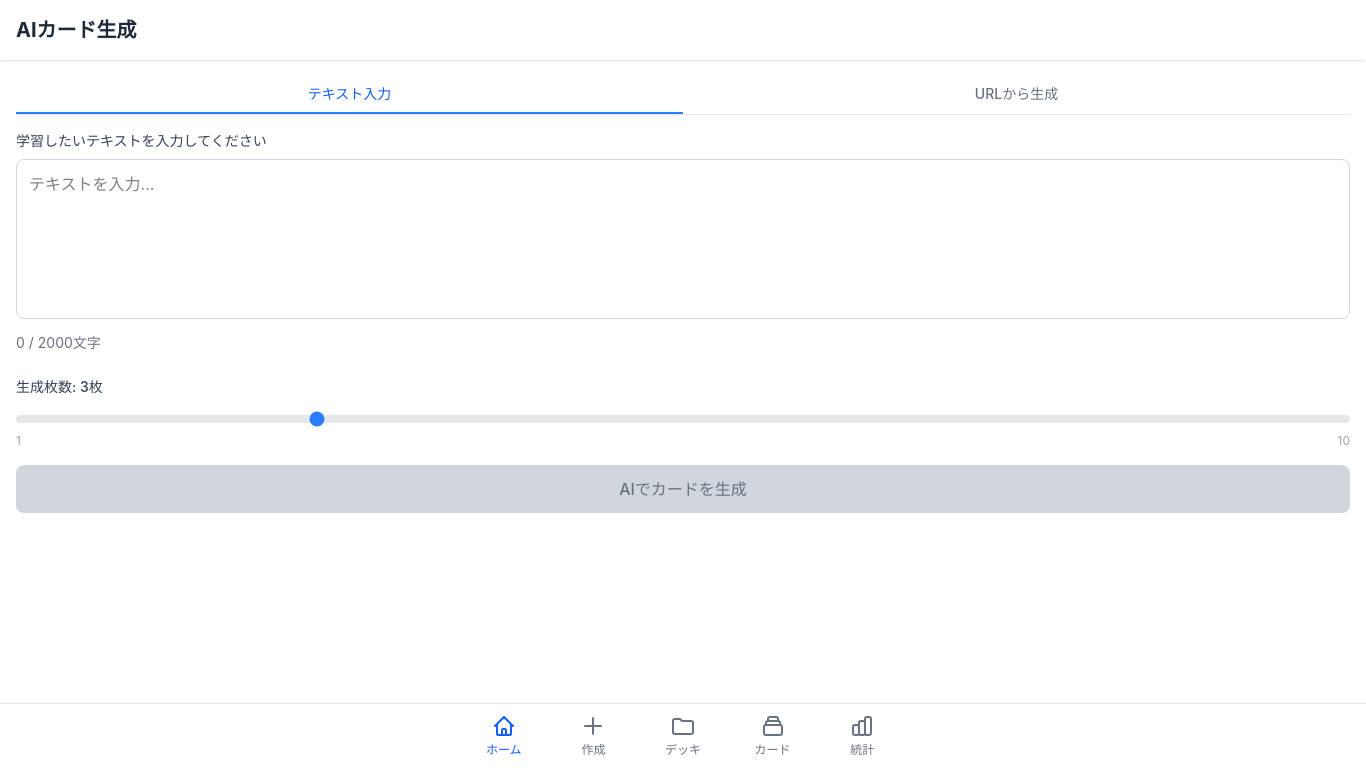
Test: GeneratePage › テストケース6: カードの選択/解除 › カードを選択・解除できる
In the text box with test id "input-text": (683, 239) [16,159,1350,319], type "テスト用のテキストです"
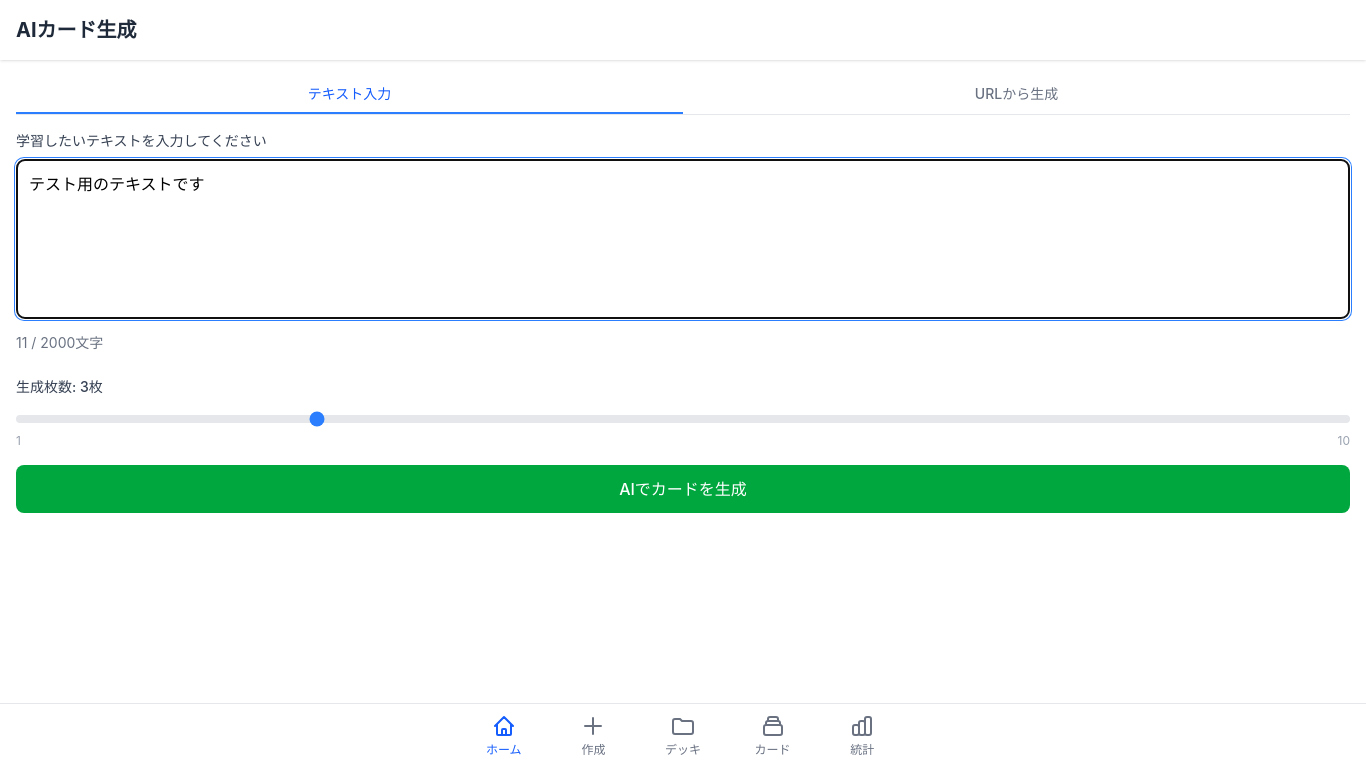
Click the button with test id "generate-button": (683, 489) [16,465,1350,513]
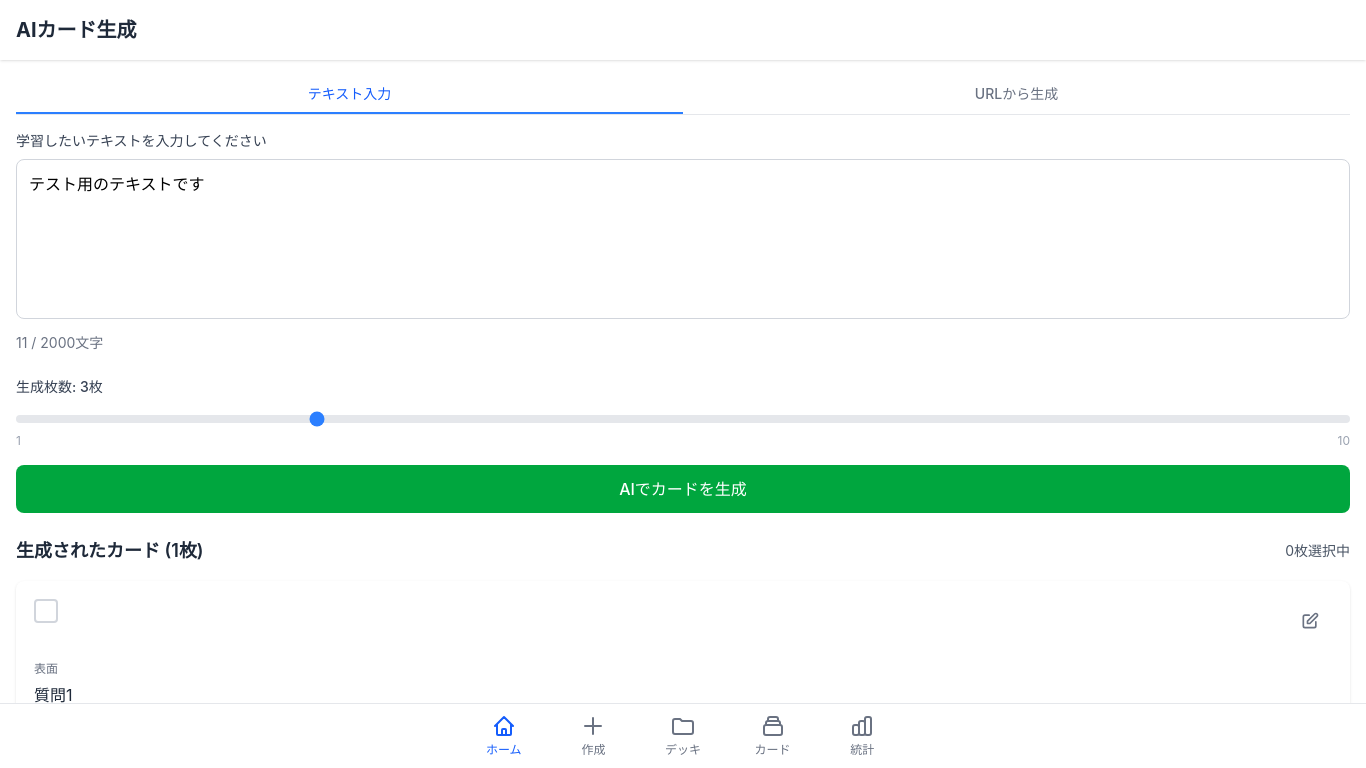
Result: the text with test id "selected-count" reads "0枚選択中" at [1285,541,1350,561]
Click the button with test id "toggle-select": (46, 611) [34,599,58,623]
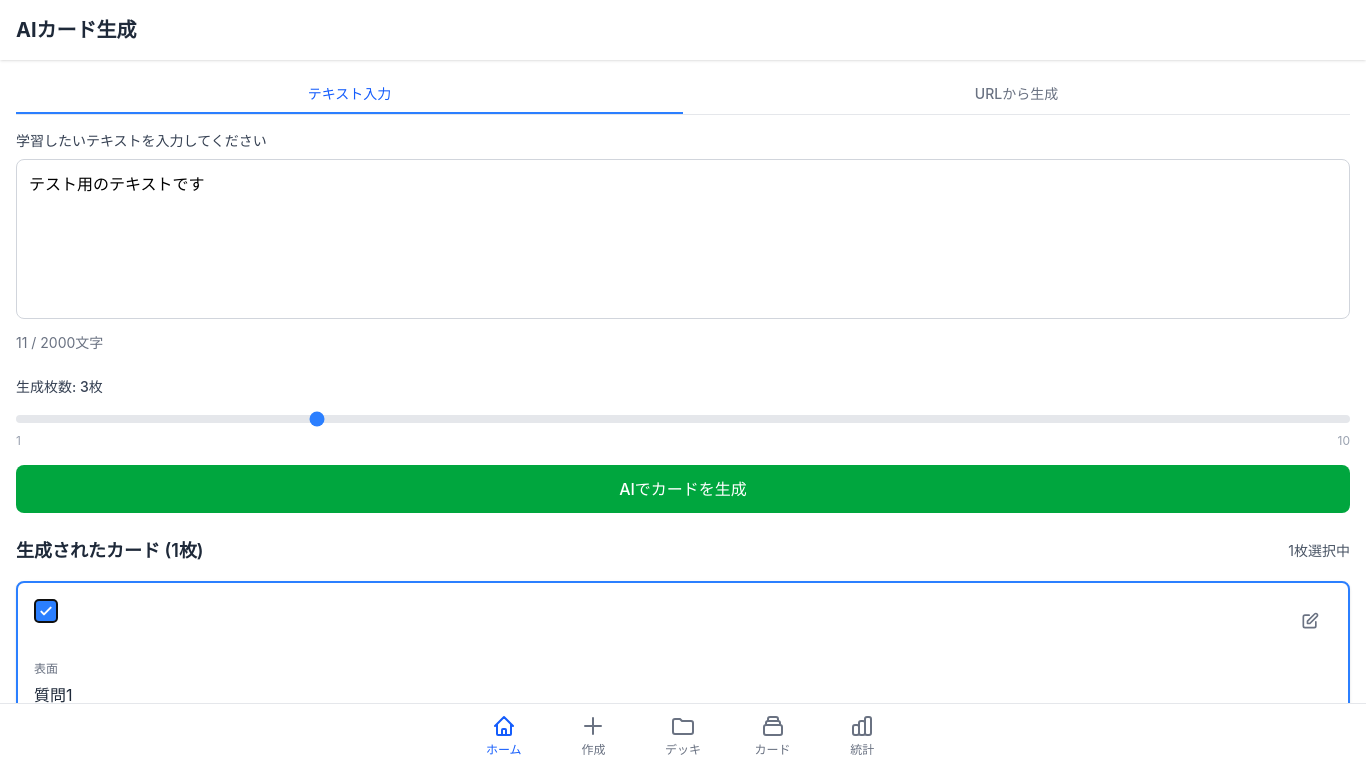
Result: the text with test id "selected-count" reads "1枚選択中" at [1288,541,1350,561]
Click the button with test id "toggle-select": (46, 611) [34,599,58,623]
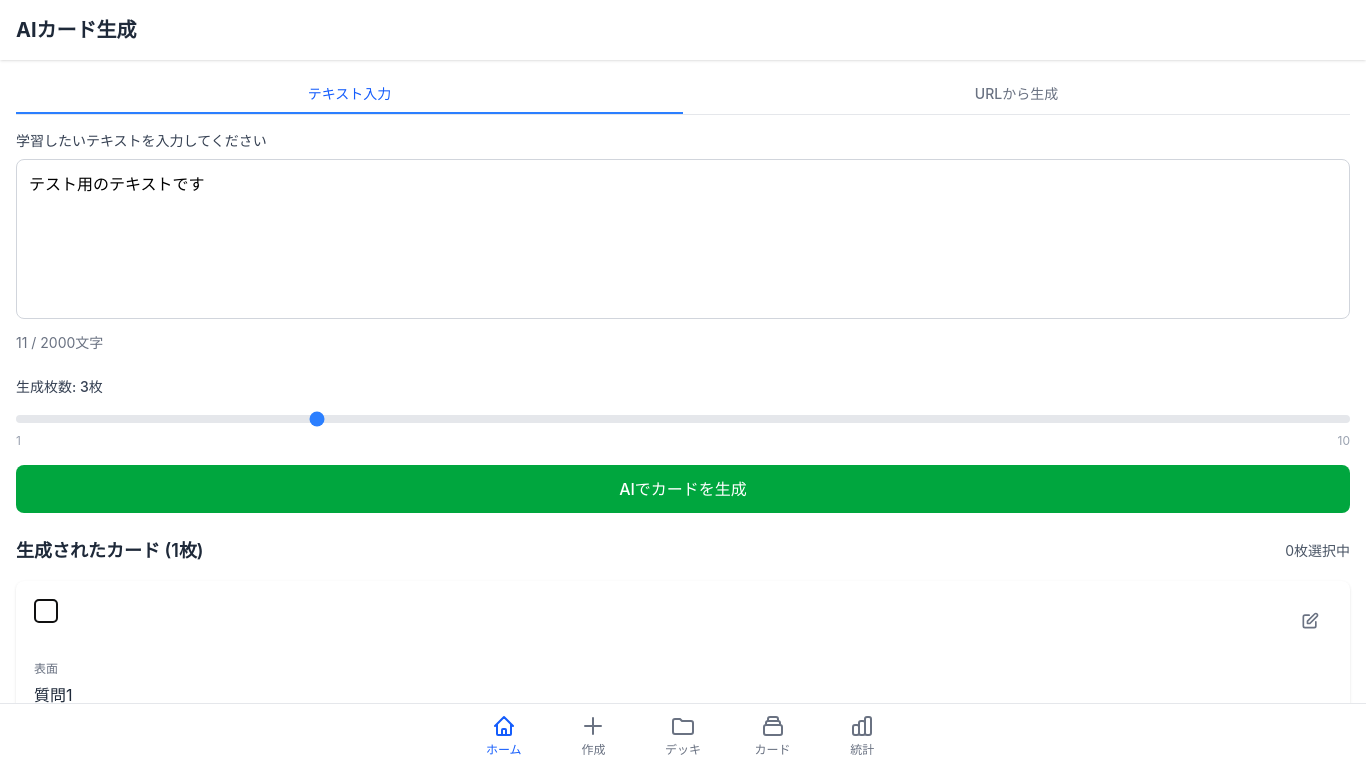
Result: the text with test id "selected-count" reads "0枚選択中" at [1285,541,1350,561]
